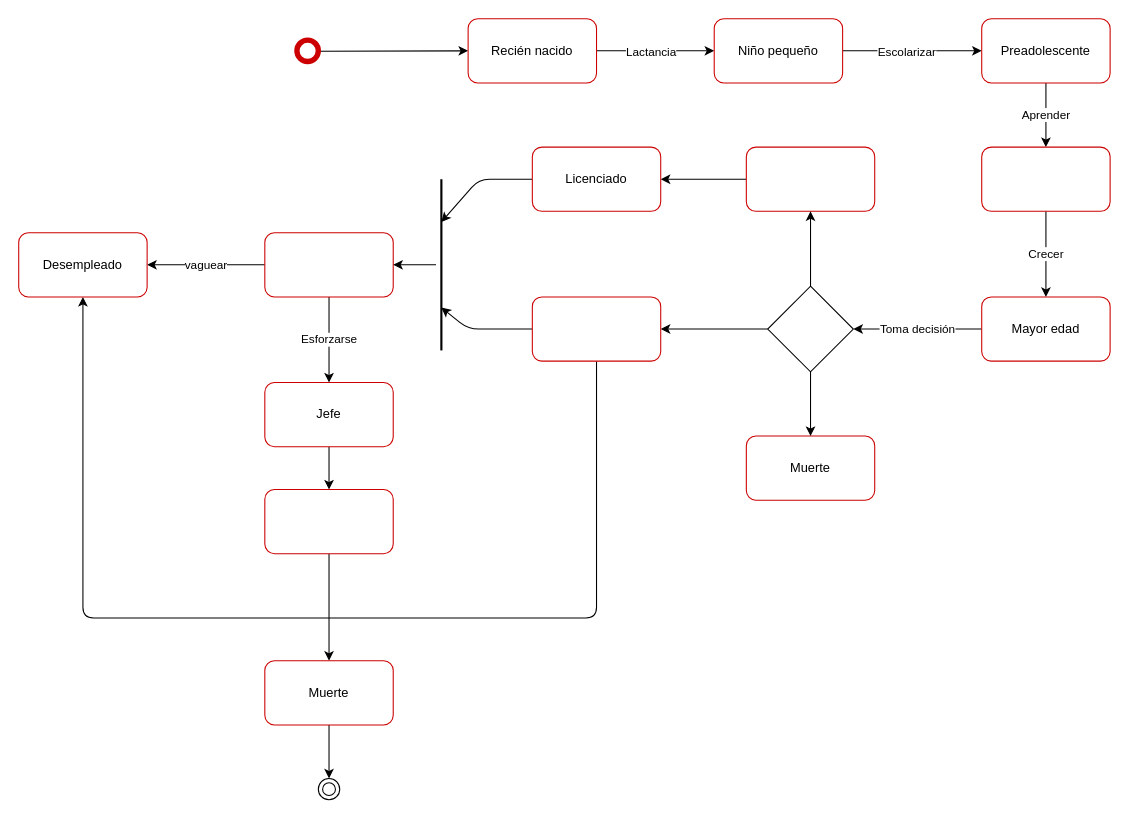
Image size: 1129x819. Some labels were removed from this diagram. Each missing label, with the centre of its shape:
"Adolescente" belongs at point (1045, 178).
"Estudiante" belongs at point (810, 178).
"Jubilado" belongs at point (328, 521).
"Trabajador" belongs at point (596, 328).
"Trabajador bien remunerado" belongs at point (328, 264).
